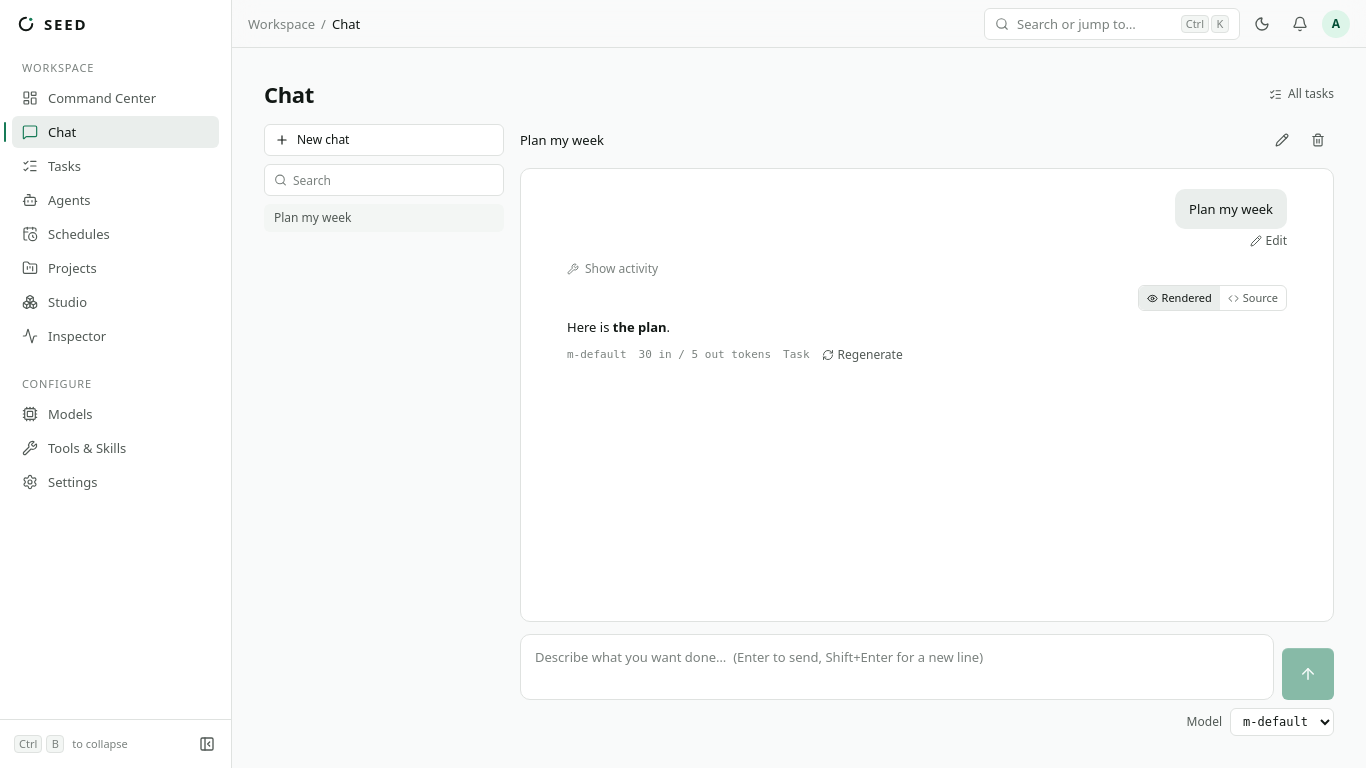
Chat › renames a conversation, and Escape leaves it as it was
Click the button named "Rename conversation". click: (1282, 140)
box: [1266,124,1298,156]
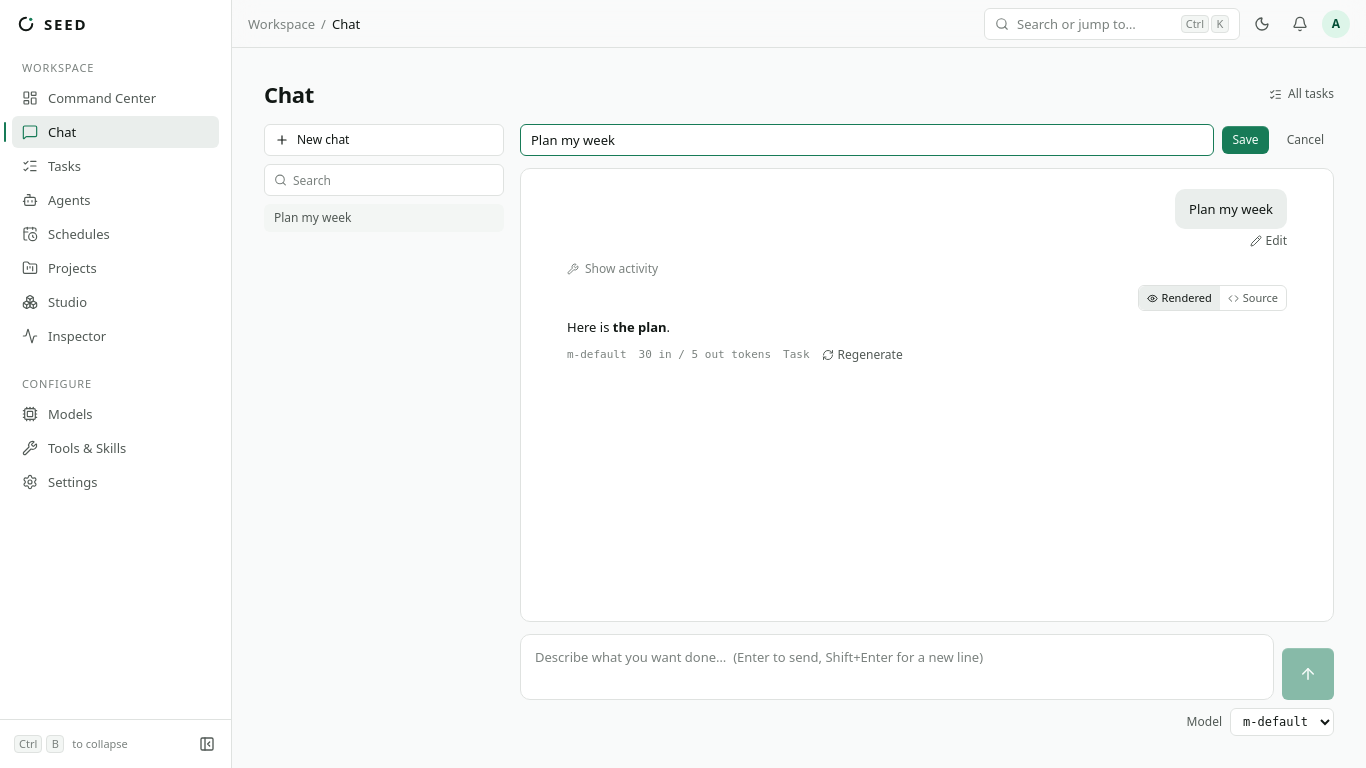
Press Escape
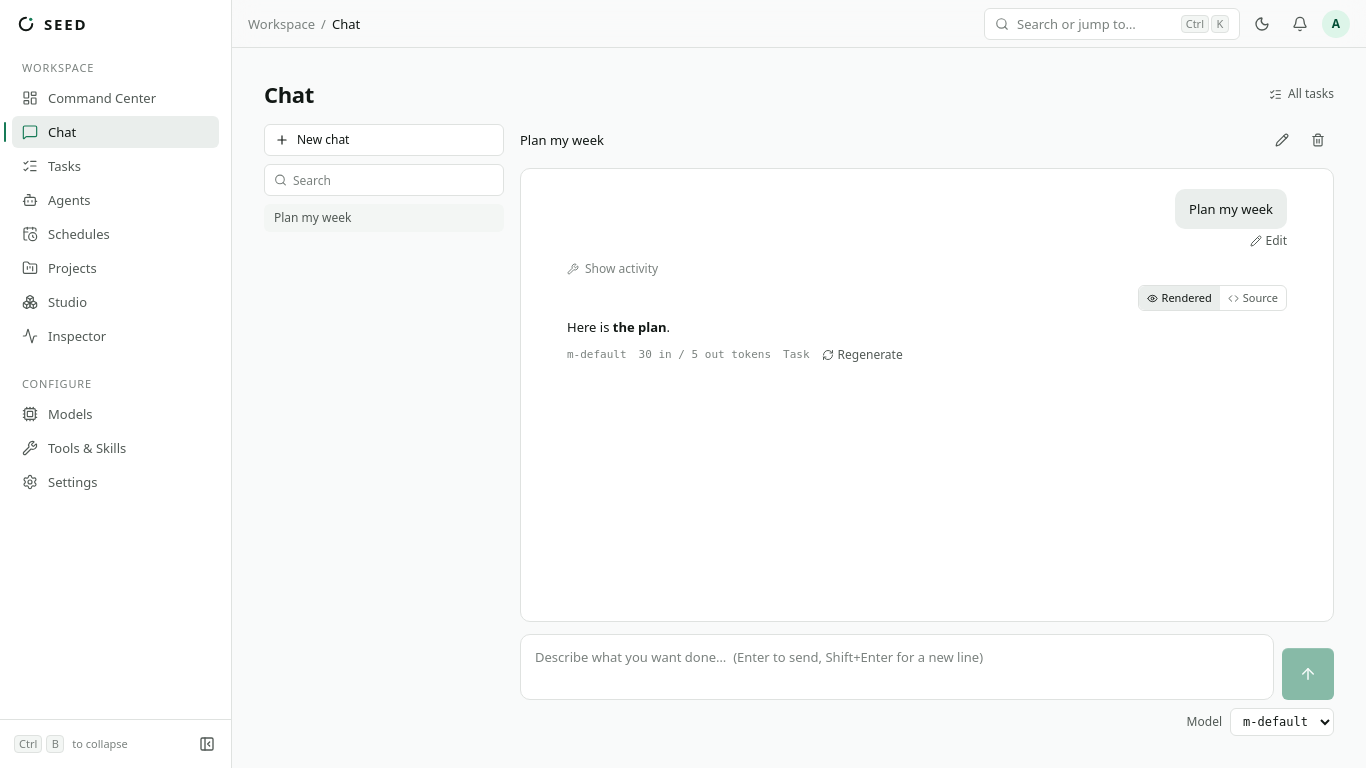
expect the heading "Plan my week" is shown: met, box [520,131,604,149]
Click the button named "Rename conversation". click: (1282, 140)
box: [1266,124,1298,156]
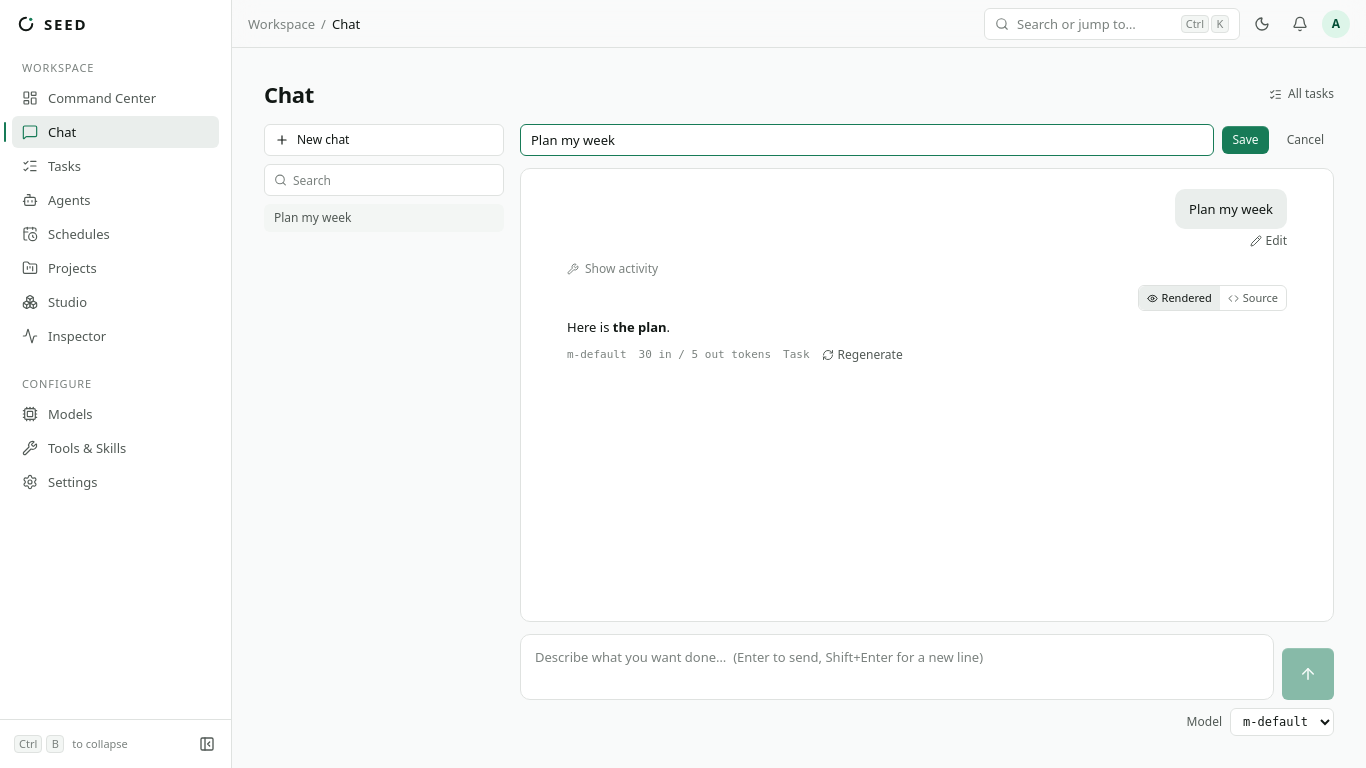
expect the field named "Conversation title" holds "Plan my week": met
Clear the field named "Conversation title". click: (867, 140)
box: [520,124,1214,156]
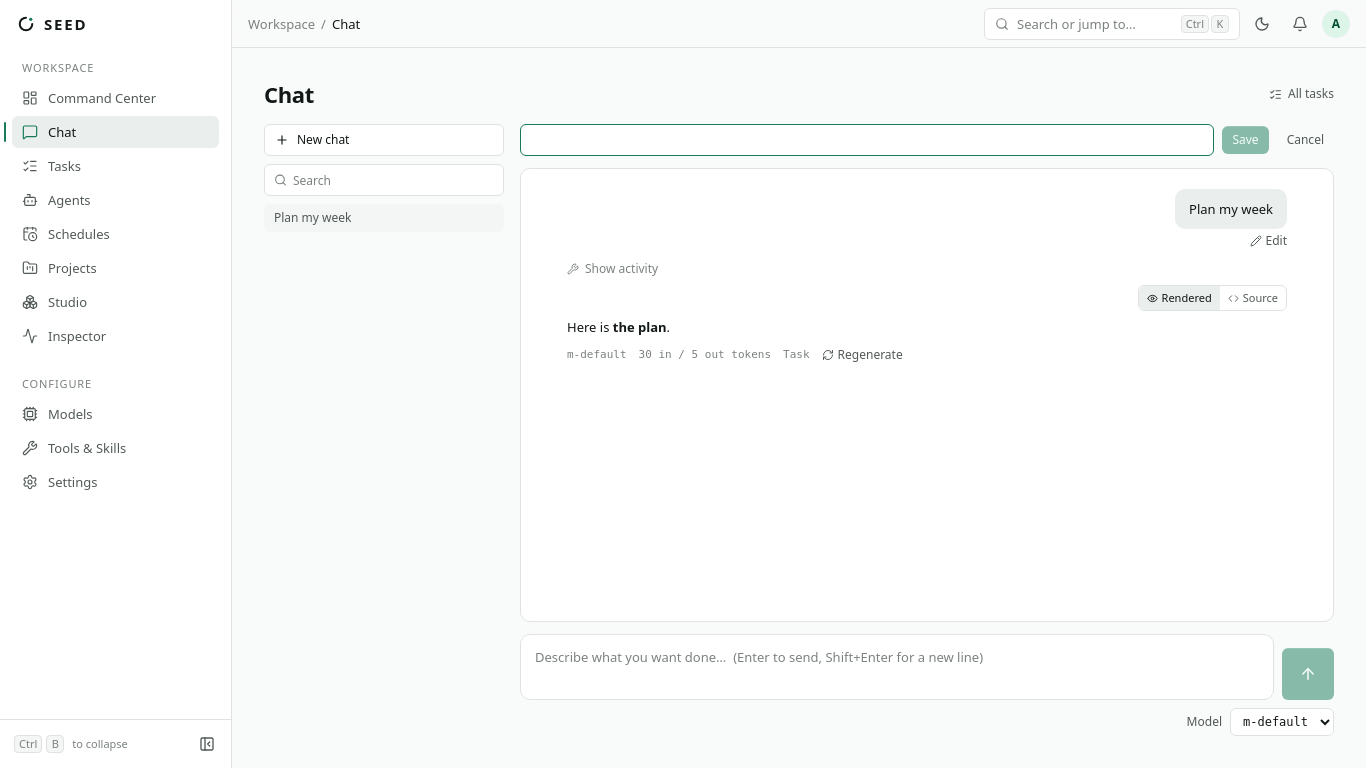
expect the button "Save" is disabled: met, box [1222,126,1269,154]
Type "  Week   plan " into the field named "Conversation title". click: (867, 140)
box: [520,124,1214,156]
Then press Enter
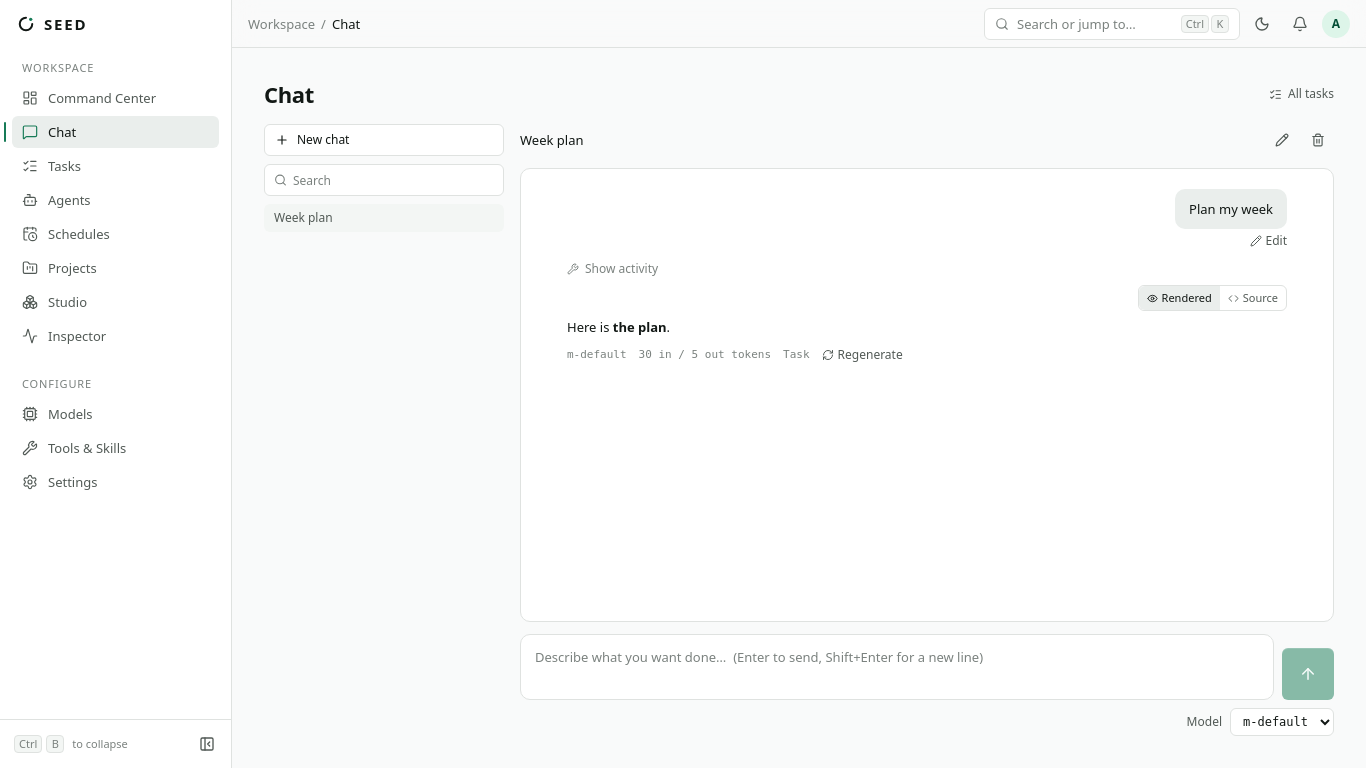
expect the heading "Week plan" is shown: met, box [520,131,584,149]
expect the link "Week plan" is shown: met, box [264,204,504,232]
